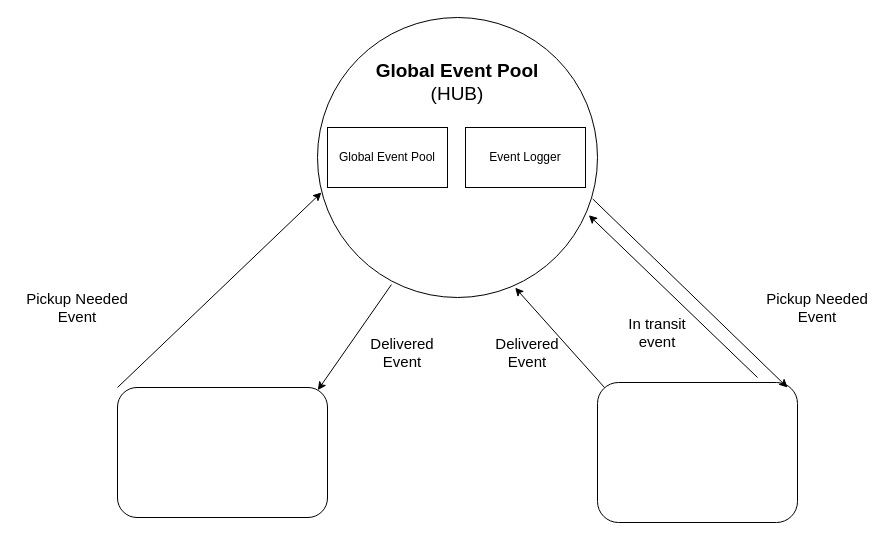
This 894x540 diagram has some shape labels left out. Each missing label, with the centre of its shape:
"Driver Client Application" goes at [697,452].
"Vendor Client Application" goes at [222,452].
